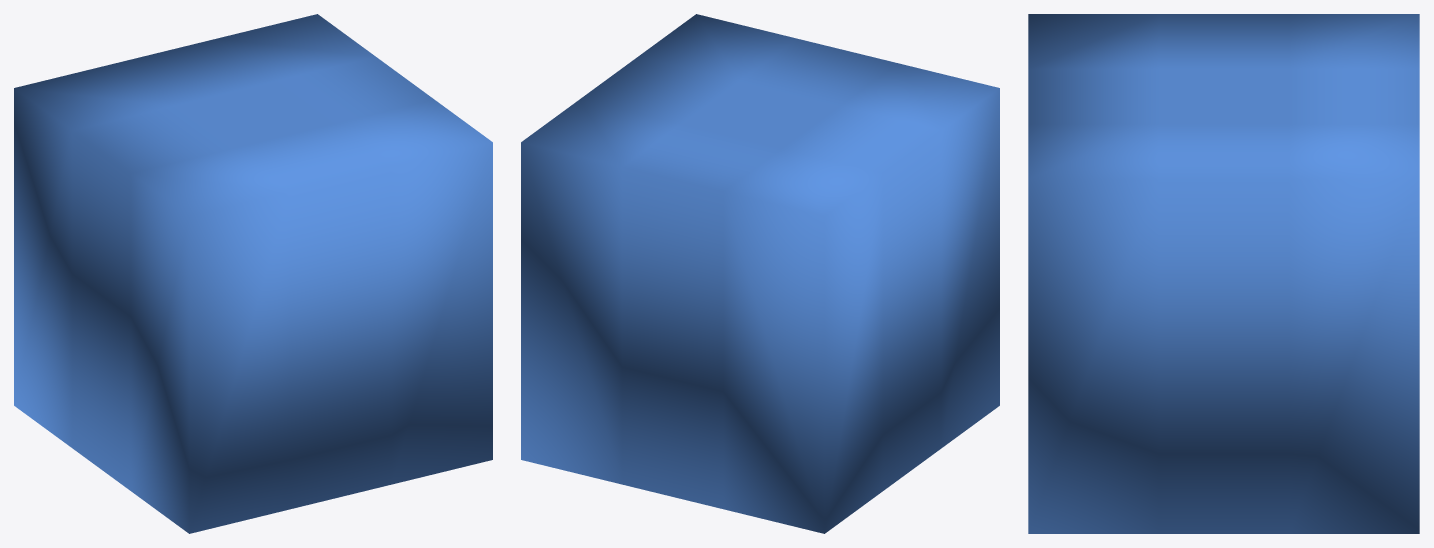
3 views of the same model, side by side, from view 1: azimuth 30°, elevation 25°; view 2: azimuth 150°, elevation 25°; view 3: azimuth 270°, elevation 25° (orthographic). The views are drawn at different scales.
Visible parts, largest first — view 1: Box003; view 2: Box003; view 3: Box003.
Part boxes in pixels (x1,y1,x2,y2): Box003: (14, 14, 492, 533); Box003: (521, 14, 999, 533); Box003: (1028, 14, 1419, 533).
Size of the model in its own units: 35.43 by 35.43 by 35.43.
